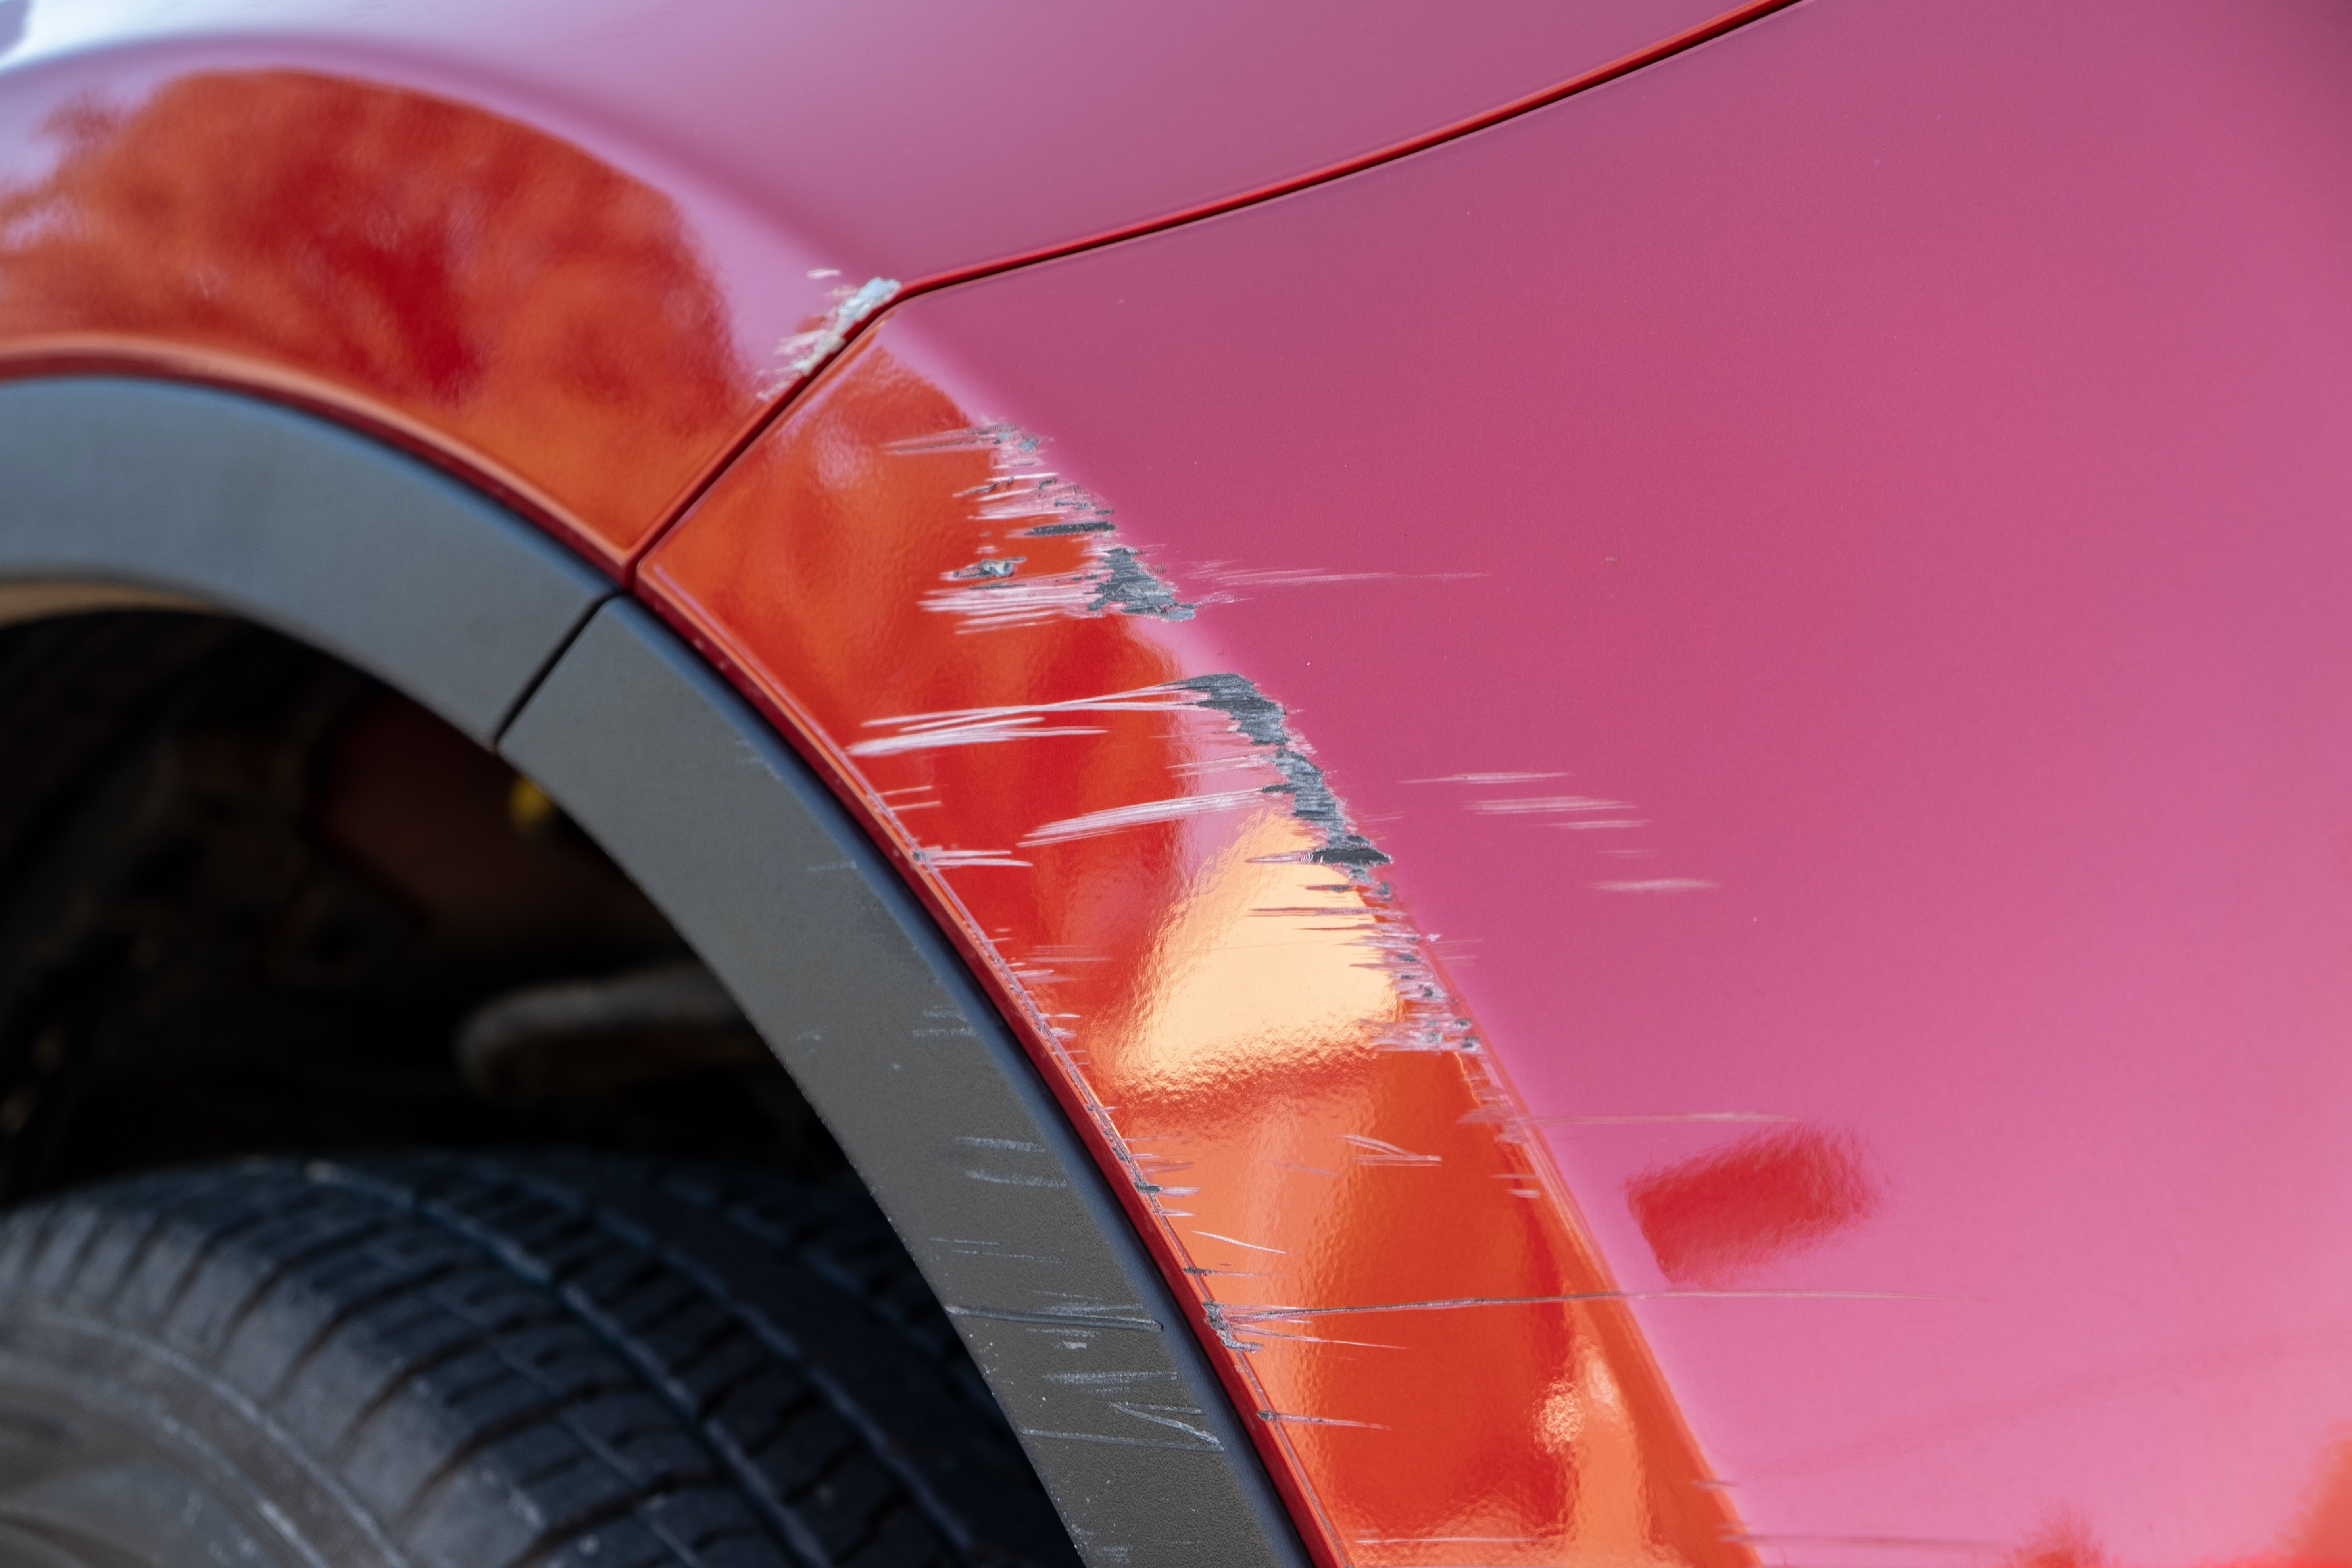scratch: (894, 408, 1489, 954), (957, 1010, 1577, 1479), (738, 214, 943, 478)
